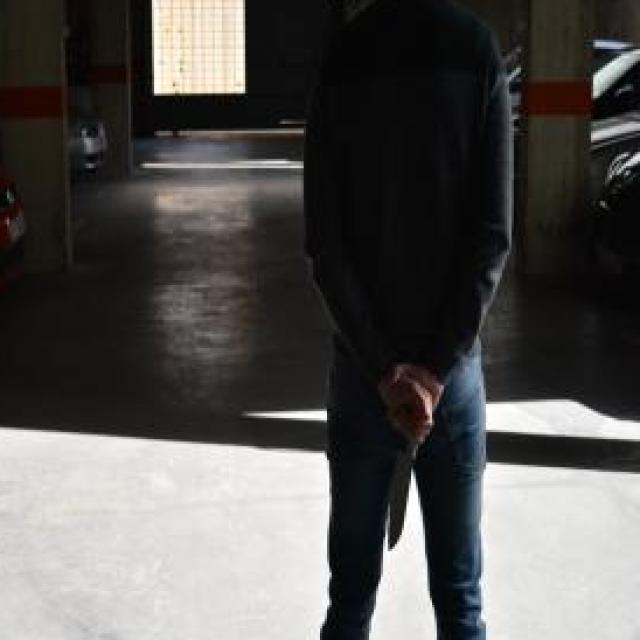knife: (385, 425, 423, 555)
